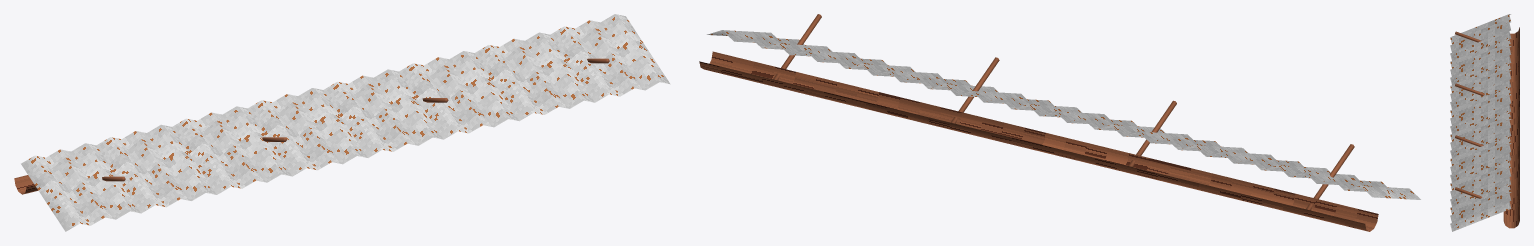
File: s_cube_eave4.glb
3 views of the same model, side by side, from view 1: azimuth 30°, elevation 25°; view 2: azimuth 150°, elevation 25°; view 3: azimuth 270°, elevation 25° (orthographic). The views are drawn at different scales.
Parts seen in each view (by area): view 1: s_cube_eave4_mesh; view 2: s_cube_eave4_mesh; view 3: s_cube_eave4_mesh.
Boxes of the visible parts, x1,y1,x2,y2 form: s_cube_eave4_mesh: [14, 14, 670, 231]; s_cube_eave4_mesh: [699, 14, 1420, 231]; s_cube_eave4_mesh: [1450, 14, 1519, 231].
Size of what is drawn, in the model's own units: 4 by 0.2636 by 0.6056.
Materials: 2 (2 with a texture image).
